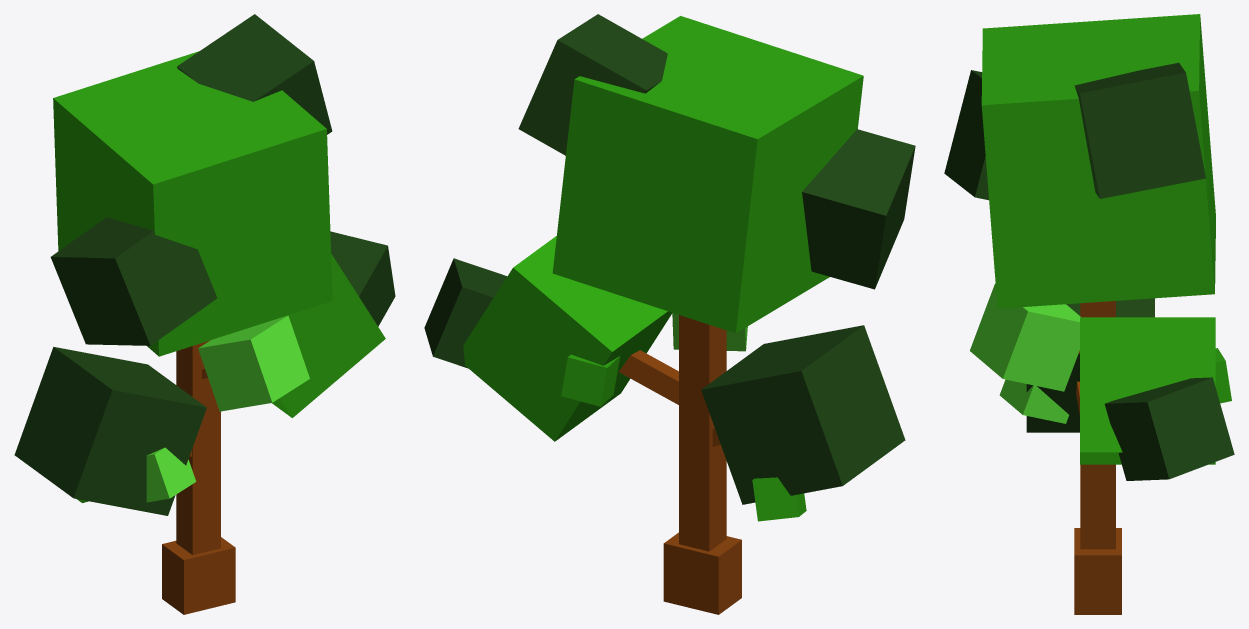
Rendered from treeTesting.fbx.
The picture shows the model from 3 angles, left to right: view 1: azimuth 30°, elevation 25°; view 2: azimuth 150°, elevation 25°; view 3: azimuth 270°, elevation 25°; orthographic projection. The views are drawn at different scales.
Visible parts, largest first — view 1: _cube_center; view 2: _cube_center; view 3: _cube_center.
Boxes of the visible parts, x1,y1,x2,y2 form: _cube_center: (14, 14, 395, 614); _cube_center: (424, 14, 915, 614); _cube_center: (944, 14, 1234, 614).
Size of the model in its own units: 432 by 564 by 256.
